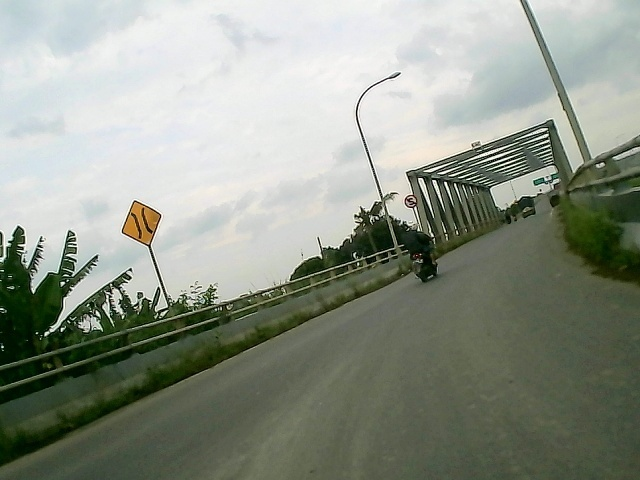Jembatan: (118, 197, 166, 249)
